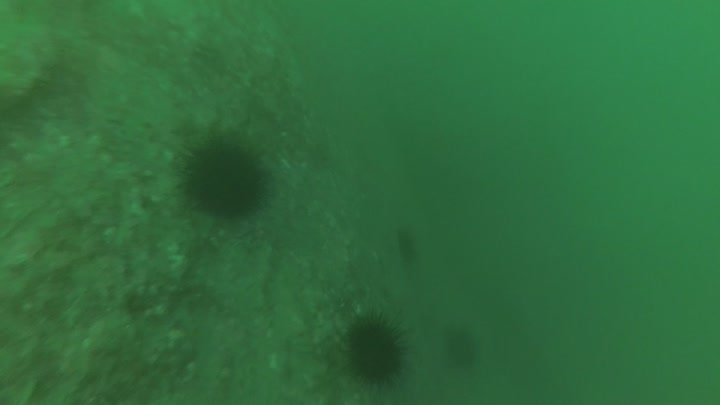echinus: (174, 138, 273, 223), (343, 310, 412, 394), (444, 325, 481, 369), (391, 226, 420, 261)
